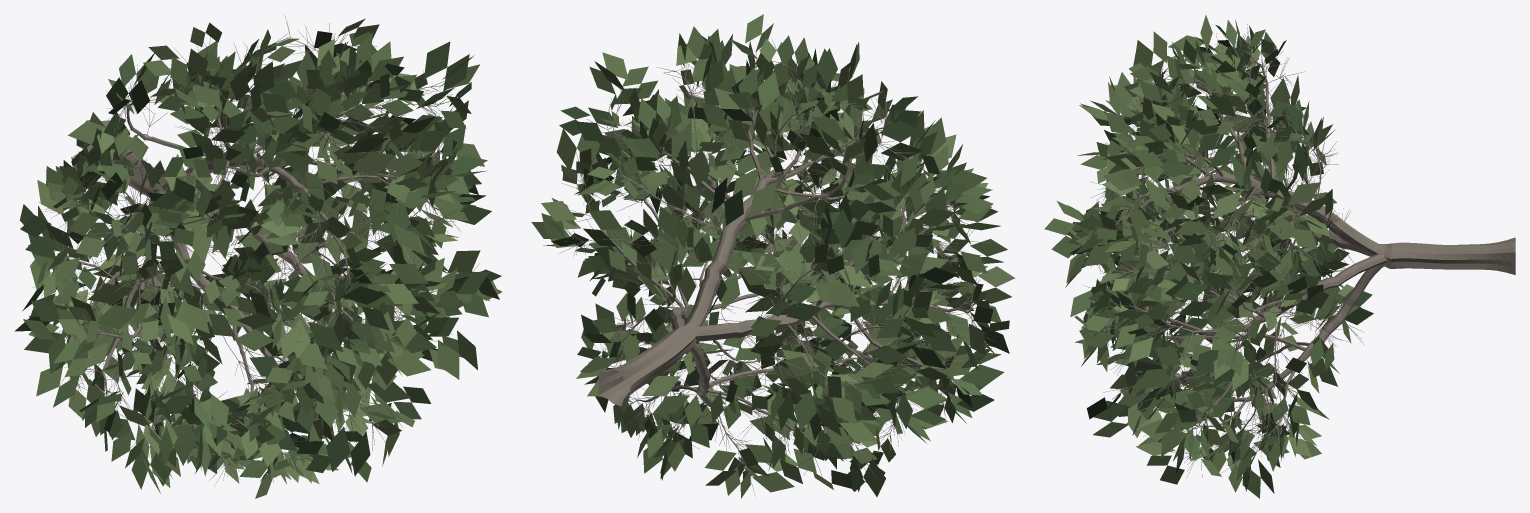
File: tree_near_18.obj
3 views of the same model, side by side, from view 1: azimuth 30°, elevation 25°; view 2: azimuth 150°, elevation 25°; view 3: azimuth 270°, elevation 25° (orthographic). The views are drawn at different scales.
Parts seen in each view (by area): view 1: tree_near_18; view 2: tree_near_18; view 3: tree_near_18.
Part boxes in pixels (x1=…): tree_near_18: x1=15, y1=15, x2=502, y2=498; tree_near_18: x1=531, y1=14, x2=1015, y2=498; tree_near_18: x1=1044, y1=15, x2=1515, y2=498.
Size of the model in its own units: 1.01 by 0.9889 by 0.9874.
Materials: 1 (1 with a texture image).
